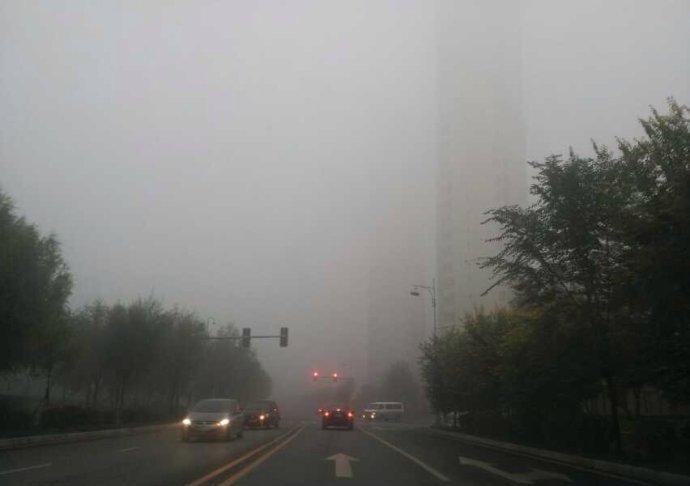car: (182, 398, 244, 443), (240, 398, 281, 431), (360, 402, 404, 423), (320, 404, 355, 430), (313, 406, 328, 416)
